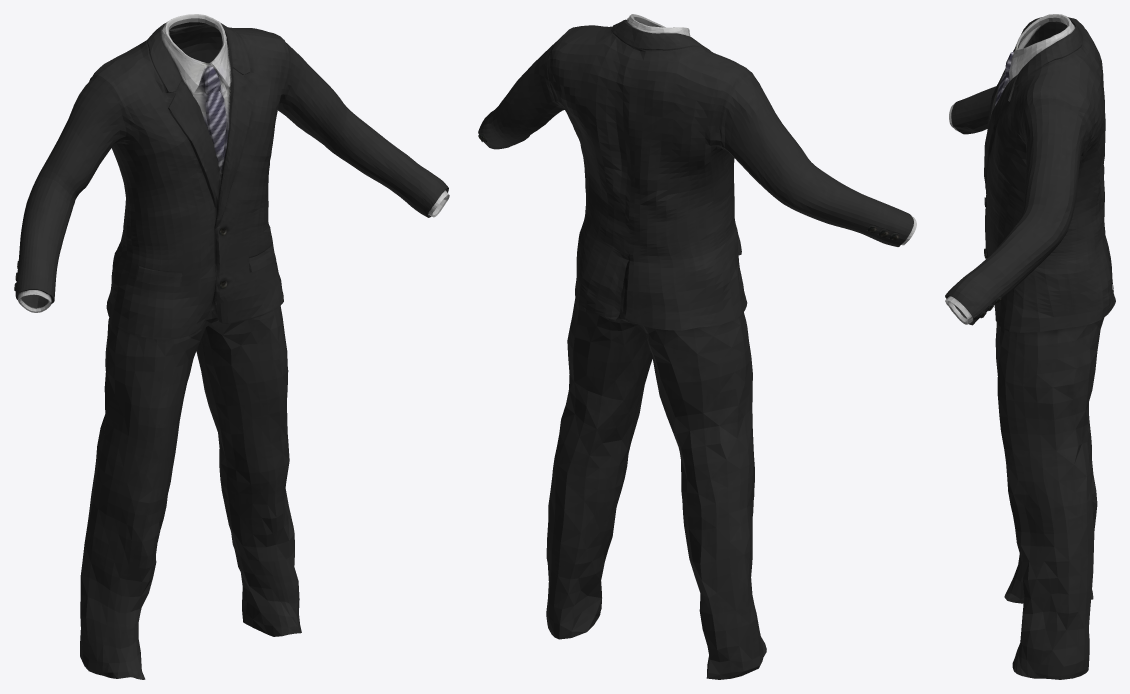
The model's file is mhw_male_elegantsuit01.glb.
3 renders of one model, left to right at view 1: azimuth 30°, elevation 25°; view 2: azimuth 150°, elevation 25°; view 3: azimuth 270°, elevation 25°, orthographic. The views are drawn at different scales.
Visible parts, largest first — view 1: mhw_male_elegantsuit01; view 2: mhw_male_elegantsuit01; view 3: mhw_male_elegantsuit01.
Part boxes in pixels (x1=…): mhw_male_elegantsuit01: x1=14, y1=14, x2=449, y2=679; mhw_male_elegantsuit01: x1=478, y1=14, x2=916, y2=679; mhw_male_elegantsuit01: x1=945, y1=14, x2=1115, y2=679.
Bounding box in the file's own units: 1.13 × 1.57 × 0.3957.
1 material, 1 textured.
